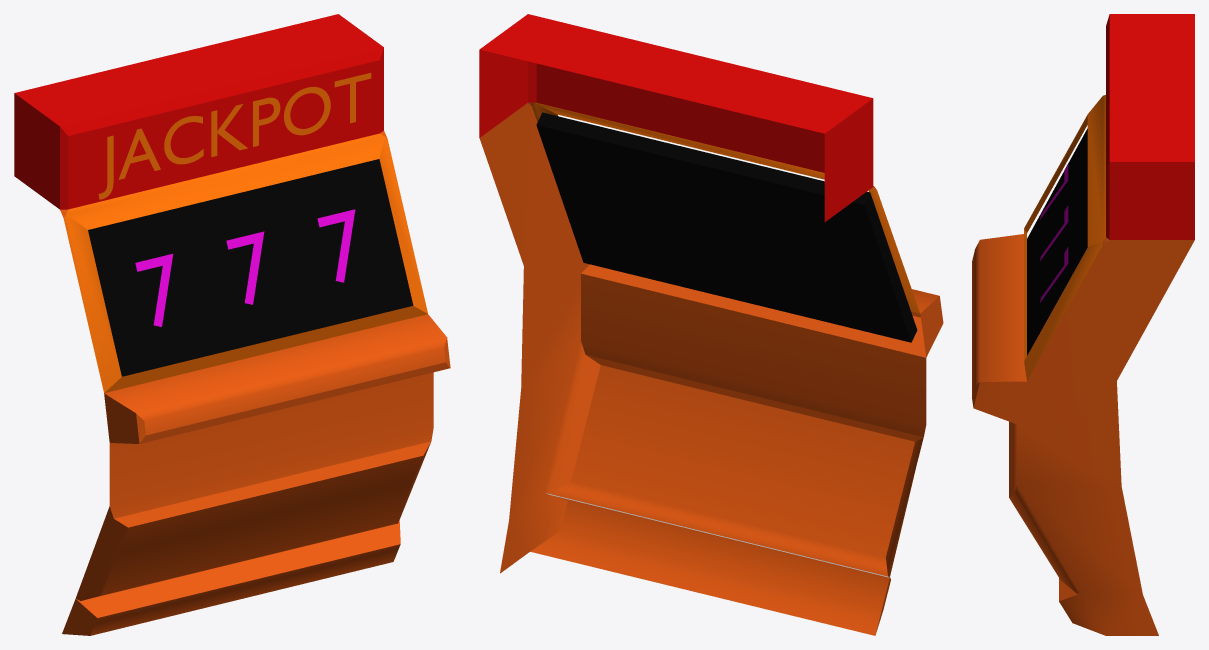
Rendered from slot.fbx.
3 renders of one model, left to right at view 1: azimuth 30°, elevation 25°; view 2: azimuth 150°, elevation 25°; view 3: azimuth 270°, elevation 25°, orthographic. The views are drawn at different scales.
Parts seen in each view (by area): view 1: Cube, Cube.001, Text, Text.001; view 2: Cube, Cube.001; view 3: Cube, Cube.001, Text.001.
Part boxes in pixels (x1,y1,x2,y2): Cube: (14,14,450,635); Cube.001: (88,159,413,376); Text: (98,73,371,199); Text.001: (135,209,355,326); Cube: (479,14,943,635); Cube.001: (536,112,917,342); Cube: (972,14,1194,635); Cube.001: (1027,128,1087,355); Text.001: (1039,163,1068,303).
Bounding box in the file's own units: 376 × 561 × 239.
